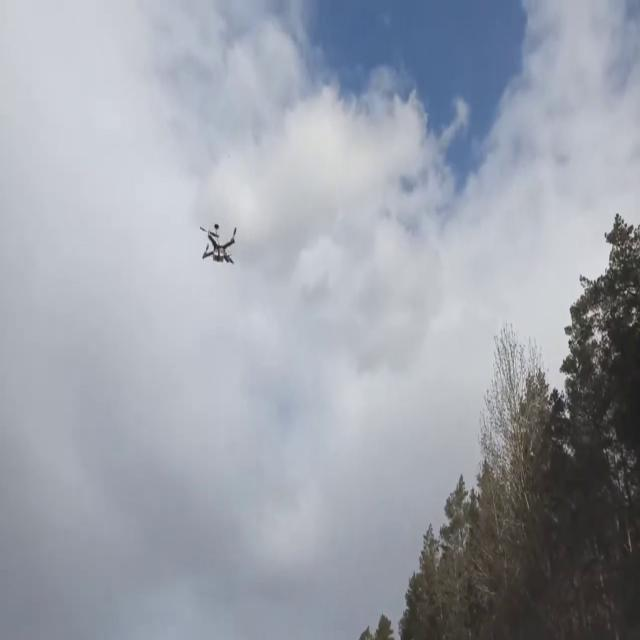Drons: (190, 221, 246, 269)
